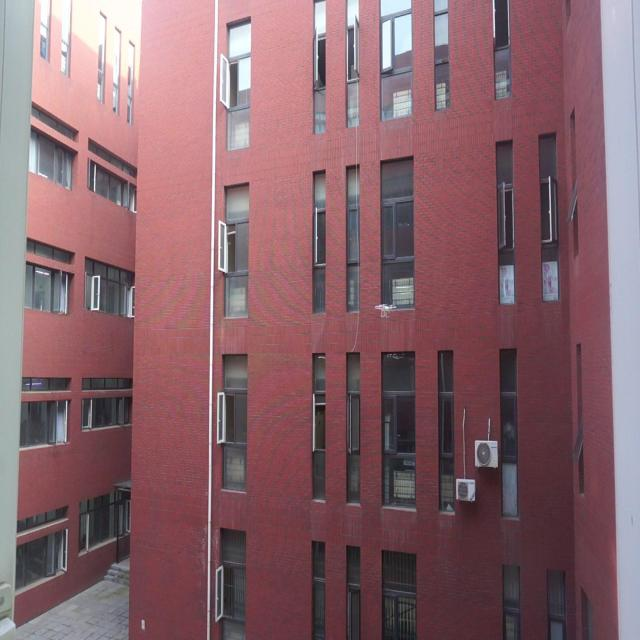drone: (373, 301, 397, 319)
